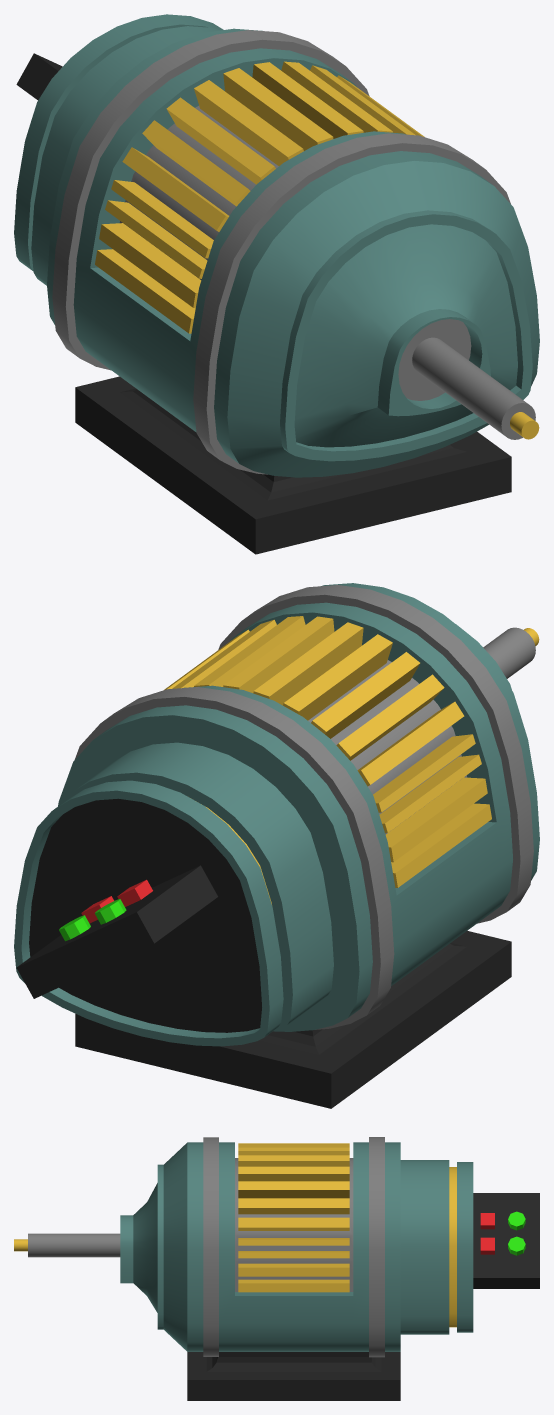
File: Motor.fbx
3 views of the same model, one above another, from view 1: azimuth 30°, elevation 25°; view 2: azimuth 150°, elevation 25°; view 3: azimuth 270°, elevation 25° (orthographic). The views are drawn at different scales.
Parts seen in each view (by area): view 1: Cylinder, Cube, Cube.001; view 2: Cylinder, Cube, Cube.001; view 3: Cylinder, Cube, Cube.001.
Boxes of the visible parts, x1,y1,x2,y2 form: Cylinder: (14, 14, 539, 477); Cube: (75, 376, 511, 554); Cube.001: (16, 53, 62, 99); Cylinder: (14, 583, 539, 1046); Cube: (75, 930, 511, 1108); Cube.001: (16, 865, 217, 998); Cylinder: (14, 1137, 473, 1357); Cube: (187, 1352, 400, 1400); Cube.001: (473, 1193, 539, 1288).
Bounding box in the file's own units: 210 × 224 × 493.
